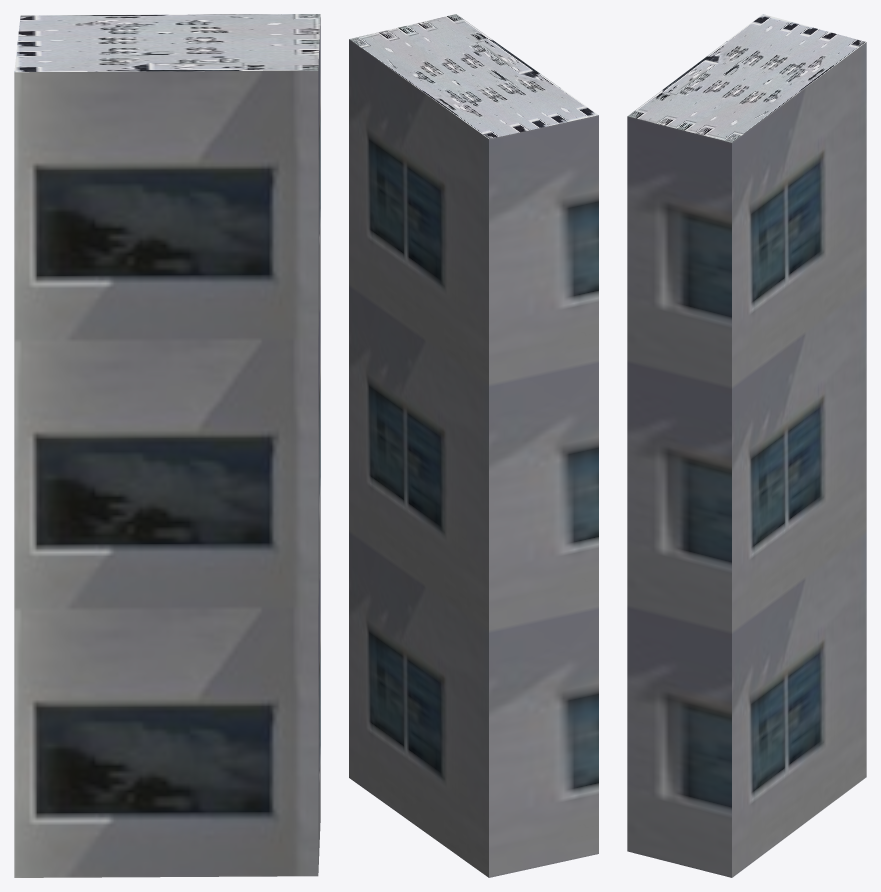
Rendered from ResTex__1912.fbx.
3 renders of one model, left to right at view 1: azimuth 30°, elevation 25°; view 2: azimuth 150°, elevation 25°; view 3: azimuth 270°, elevation 25°, orthographic. The views are drawn at different scales.
Parts seen in each view (by area): view 1: CityEngineMaterial_10_m, CityEngineMaterial_8_m; view 2: CityEngineMaterial_10_m, CityEngineMaterial_8_m; view 3: CityEngineMaterial_10_m, CityEngineMaterial_8_m.
Part boxes in pixels (x1,y1,x2,y2): CityEngineMaterial_10_m: (14,17,320,877); CityEngineMaterial_8_m: (14,14,320,72); CityEngineMaterial_10_m: (349,39,598,877); CityEngineMaterial_8_m: (349,14,598,138); CityEngineMaterial_10_m: (627,42,866,877); CityEngineMaterial_8_m: (628,14,865,142).
Bounding box in the file's own units: 3.38 × 9 × 2.65.
2 materials, 2 textured.
